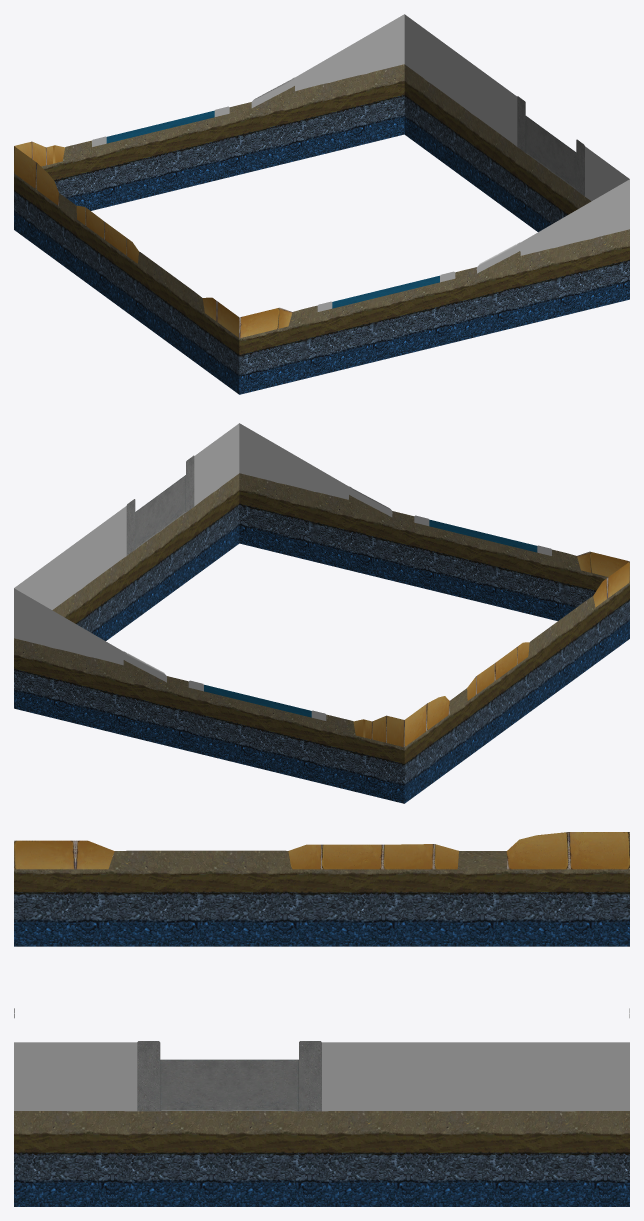
3 views of the same model, one above another, from view 1: azimuth 30°, elevation 25°; view 2: azimuth 150°, elevation 25°; view 3: azimuth 270°, elevation 25° (orthographic). The views are drawn at different scales.
Parts seen in each view (by area): view 1: Joint_0_Object_2, Joint_0_Object_4, Joint_0_Object_1, Joint_0_Object_0, Joint_0_Object_5, Joint_0_Object_7, Joint_0_Object_3; view 2: Joint_0_Object_2, Joint_0_Object_4, Joint_0_Object_1, Joint_0_Object_0, Joint_0_Object_5, Joint_0_Object_7, Joint_0_Object_3; view 3: Joint_0_Object_2, Joint_0_Object_4, Joint_0_Object_1, Joint_0_Object_0, Joint_0_Object_7.
Part boxes in pixels (left/top/right/bottom): Joint_0_Object_2: left=14, top=64, right=629, bottom=394; Joint_0_Object_4: left=295, top=14, right=629, bottom=255; Joint_0_Object_1: left=14, top=141, right=292, bottom=338; Joint_0_Object_0: left=525, top=116, right=576, bottom=189; Joint_0_Object_5: left=106, top=110, right=439, bottom=308; Joint_0_Object_7: left=517, top=96, right=584, bottom=196; Joint_0_Object_3: left=251, top=77, right=520, bottom=273; Joint_0_Object_2: left=14, top=473, right=629, bottom=803; Joint_0_Object_4: left=14, top=423, right=348, bottom=665; Joint_0_Object_1: left=353, top=551, right=629, bottom=747; Joint_0_Object_0: left=135, top=475, right=185, bottom=549; Joint_0_Object_5: left=204, top=519, right=537, bottom=717; Joint_0_Object_7: left=126, top=455, right=194, bottom=555; Joint_0_Object_3: left=123, top=486, right=392, bottom=682; Joint_0_Object_2: left=14, top=850, right=629, bottom=1206; Joint_0_Object_4: left=14, top=1042, right=629, bottom=1111; Joint_0_Object_1: left=14, top=832, right=629, bottom=869; Joint_0_Object_0: left=160, top=1059, right=298, bottom=1111; Joint_0_Object_7: left=137, top=1041, right=321, bottom=1111.
Size of the model in its own units: 10000 by 2973 by 10000.
